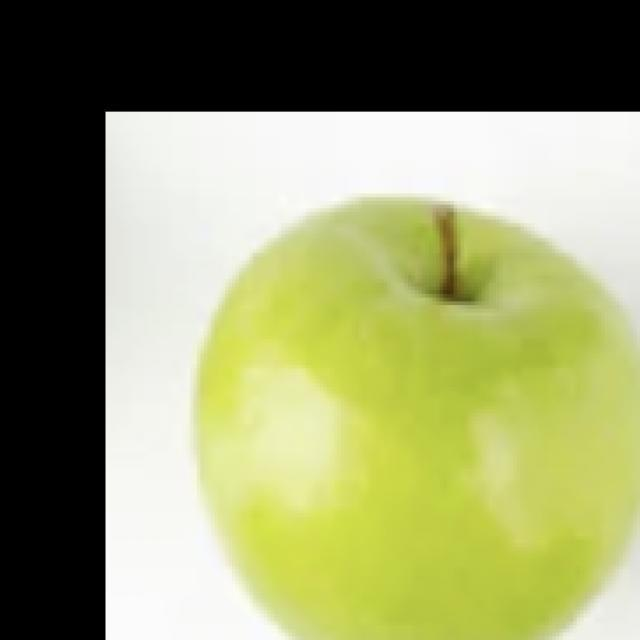Fresh Apple: (231, 198, 639, 640)
